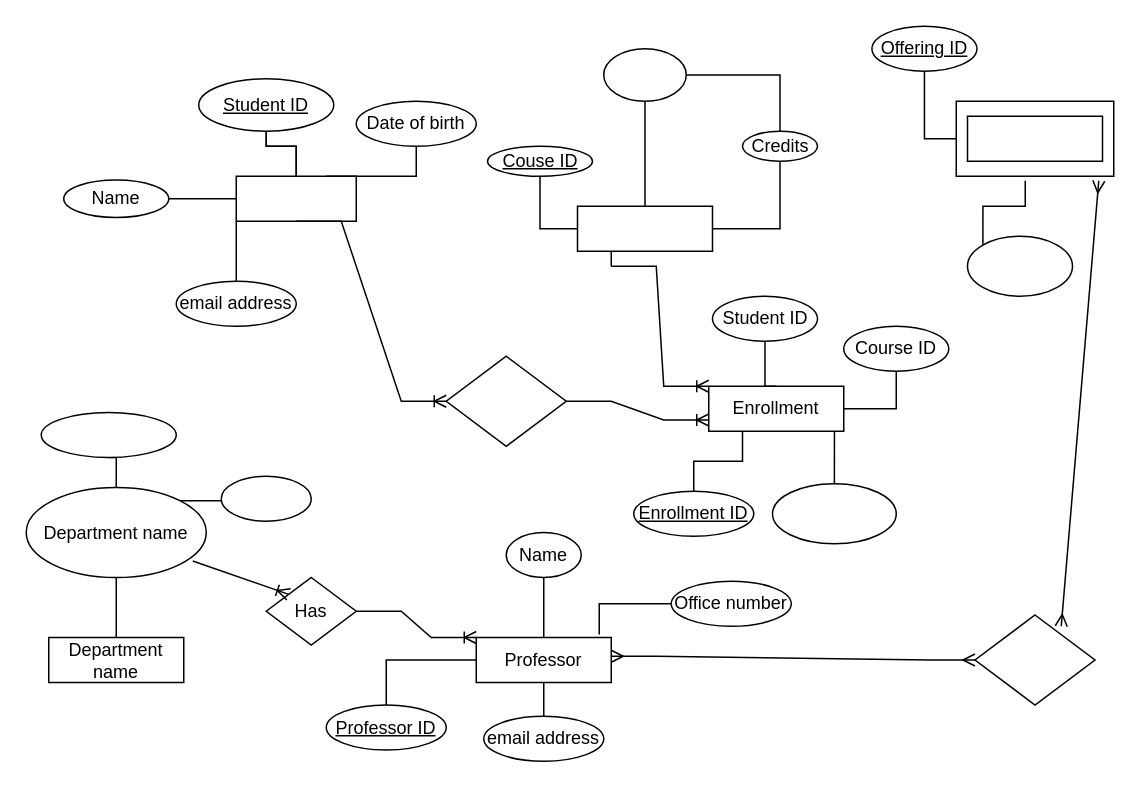
The diagram is 1140 pixels wide and 788 high, and some of its shapes have lost their labels. The shapes that lost their labels are listed below. From the top down, each one's centre as x and y in pixels, then its label:
At pixel 644 74: "Course name".
At pixel 1034 138: "Course offering".
At pixel 295 198: "Student".
At pixel 644 228: "Course".
At pixel 1019 265: "Course schedule".
At pixel 505 400: "Enrolls in".
At pixel 108 434: "Department ID".
At pixel 265 498: "H.O.D".
At pixel 833 513: "Enrollment Date".
At pixel 1034 659: "Taught by".
